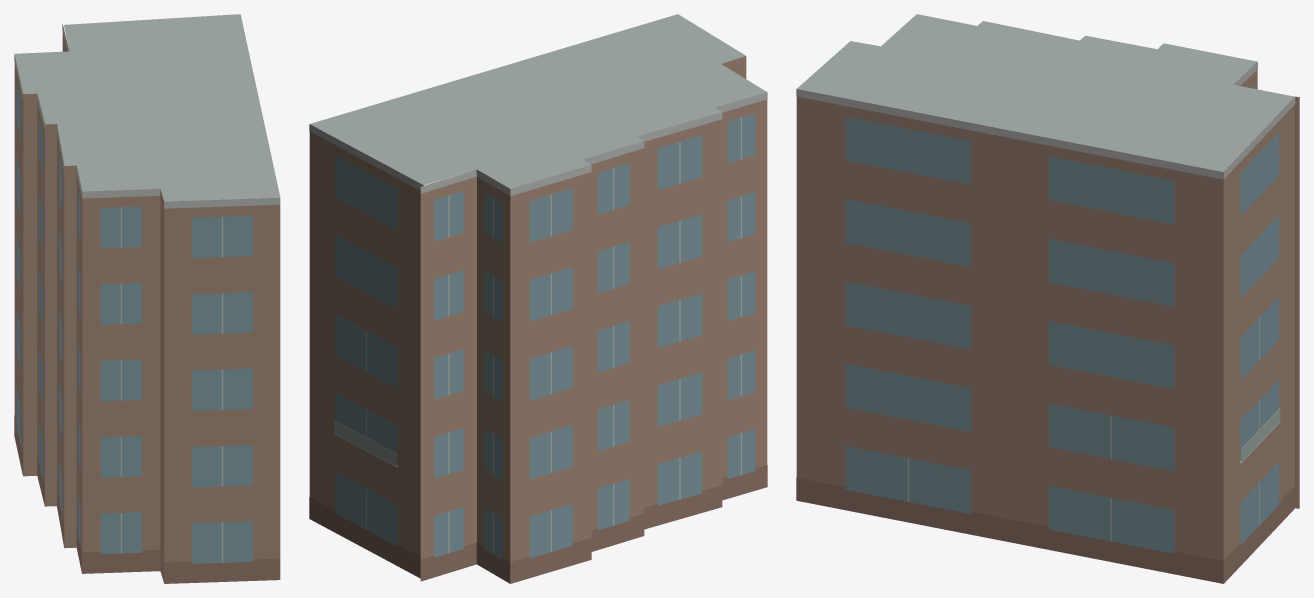
File: survey-upis-32662617.glb
3 renders of one model, left to right at view 1: azimuth 30°, elevation 25°; view 2: azimuth 150°, elevation 25°; view 3: azimuth 270°, elevation 25°, orthographic. The views are drawn at different scales.
Parts seen in each view (by area): view 1: survey-upis-32662617.tmp; view 2: survey-upis-32662617.tmp; view 3: survey-upis-32662617.tmp.
Boxes of the visible parts, box(x1,y1,x2,y2) form: survey-upis-32662617.tmp: box(14, 14, 280, 583); survey-upis-32662617.tmp: box(309, 14, 767, 583); survey-upis-32662617.tmp: box(796, 14, 1299, 583).
Size of the model in its own units: 11.05 by 13.4 by 14.84.
